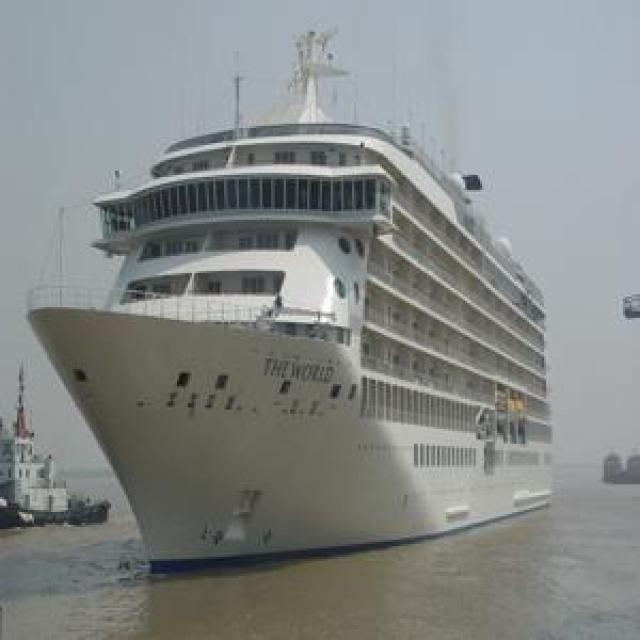passenger ship: (30, 33, 555, 566), (0, 367, 113, 527)
